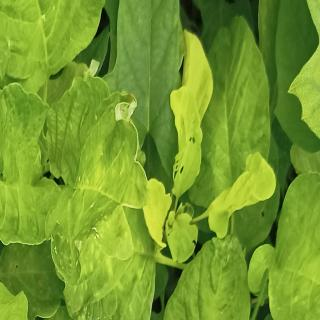virus_keriting: (48, 89, 152, 291), (162, 230, 262, 320)
